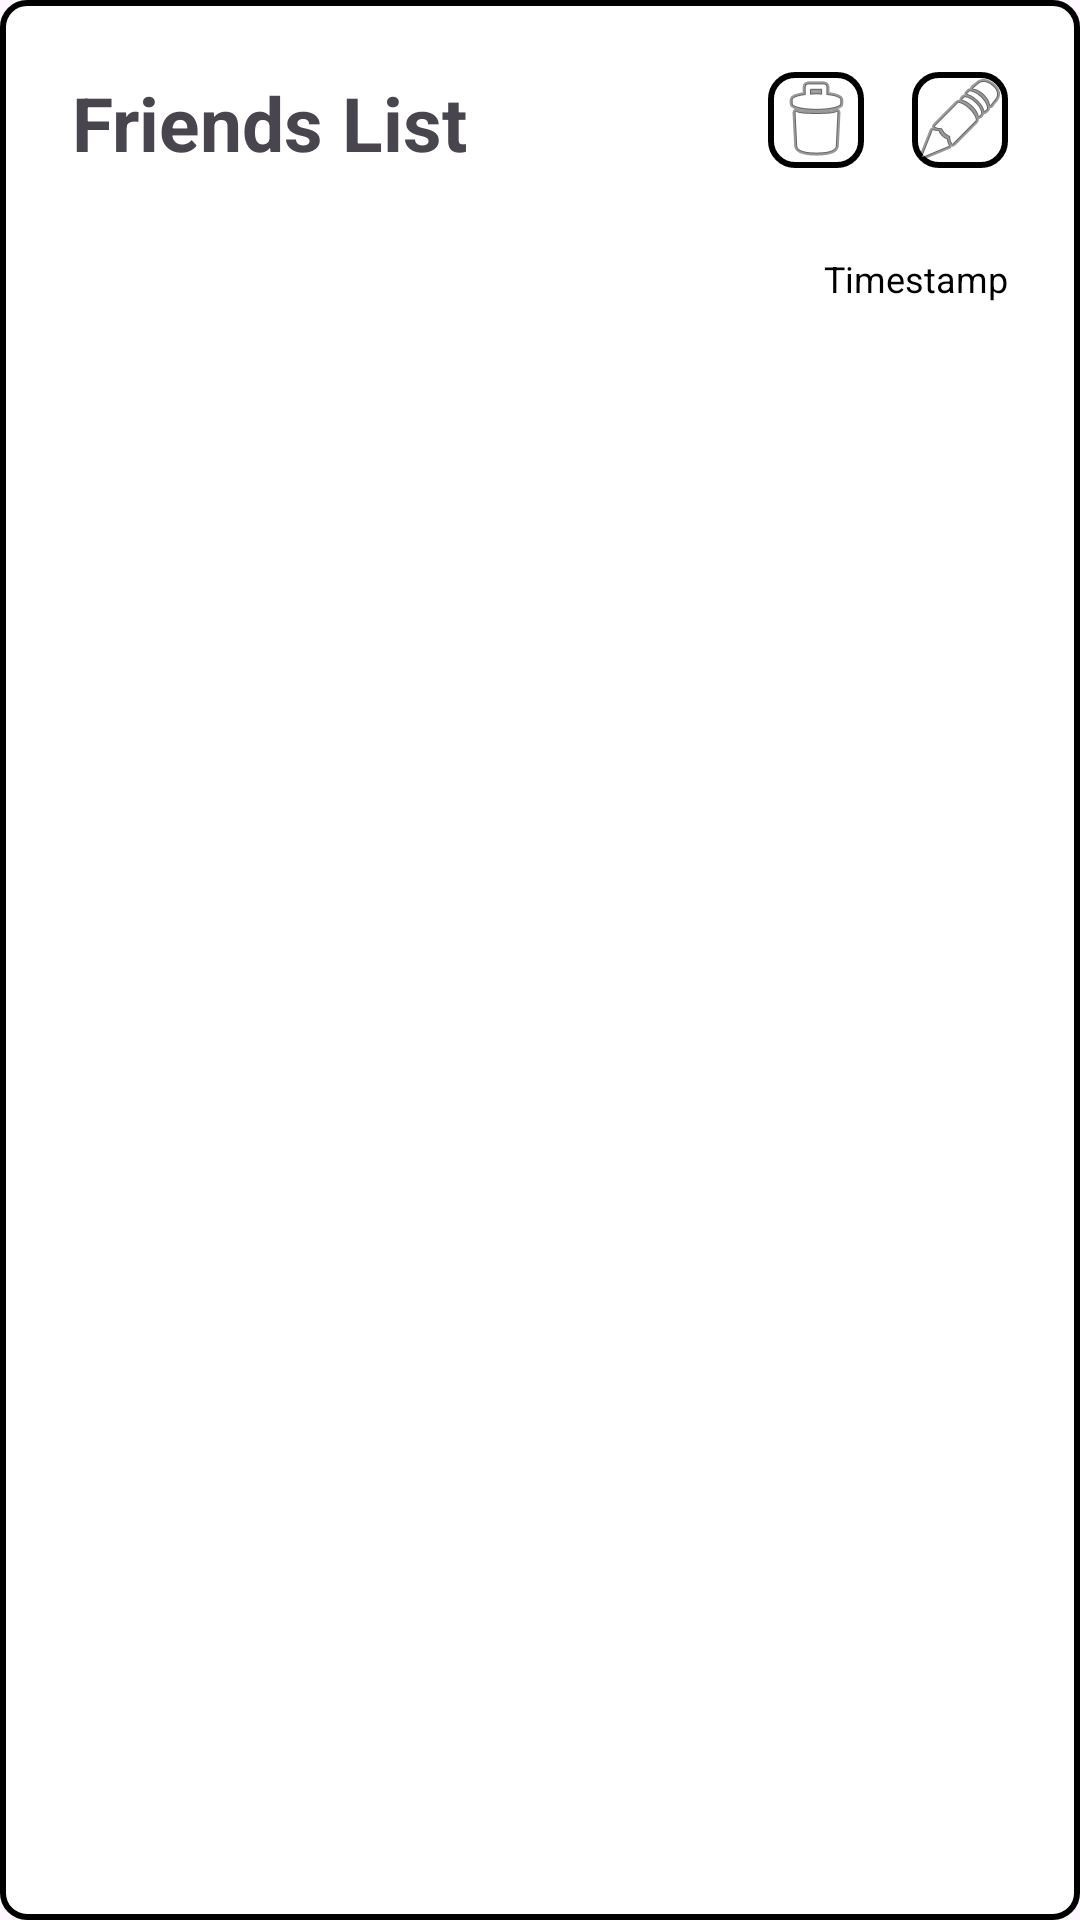

Screen size 1080 x 1920. Icon name, then its box in pixels as (x1, y1, x2, y2):
Delete: (768, 72, 864, 168)
Edit: (912, 72, 1008, 168)
